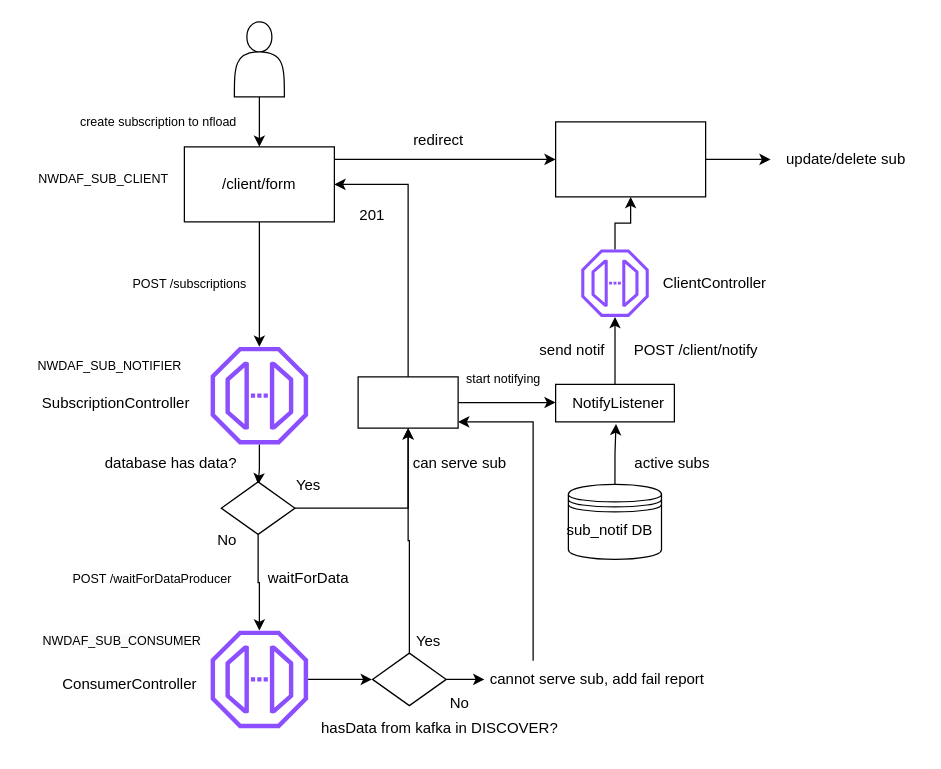
This 941x769 diagram has some shape labels left out. The centre of each missing label's shape, as x and y in pixels:
"/client/formSuccess" belongs at pixel 630 159.
"save sub" belongs at pixel 407 402.
